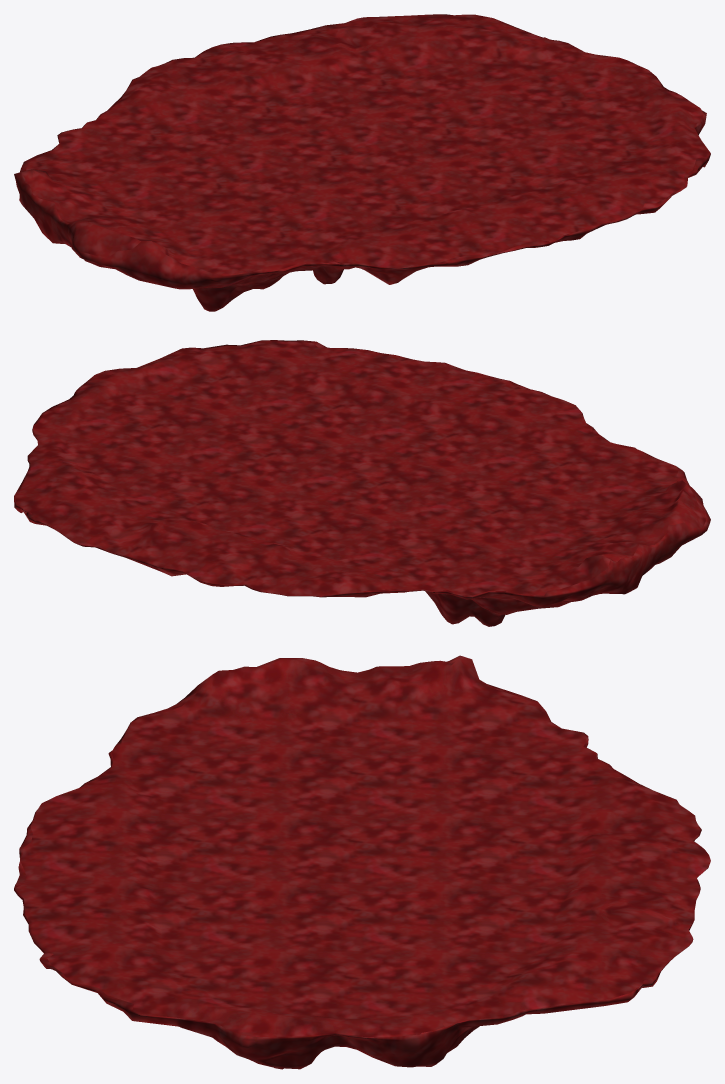
Rendered from SM_e_202_DemonMeatParts_01a.fbx.
3 views of the same model, one above another, from view 1: azimuth 30°, elevation 25°; view 2: azimuth 150°, elevation 25°; view 3: azimuth 270°, elevation 25° (orthographic). The views are drawn at different scales.
Visible parts, largest first — view 1: SM_e_202_DemonMeat_01a.001; view 2: SM_e_202_DemonMeat_01a.001; view 3: SM_e_202_DemonMeat_01a.001.
Part boxes in pixels (x1,y1,x2,y2): SM_e_202_DemonMeat_01a.001: (14,14,710,311); SM_e_202_DemonMeat_01a.001: (14,340,710,626); SM_e_202_DemonMeat_01a.001: (14,655,710,1069).
Bounding box in the file's own units: 37.34 × 6.71 × 29.8.
1 material, 1 textured.
